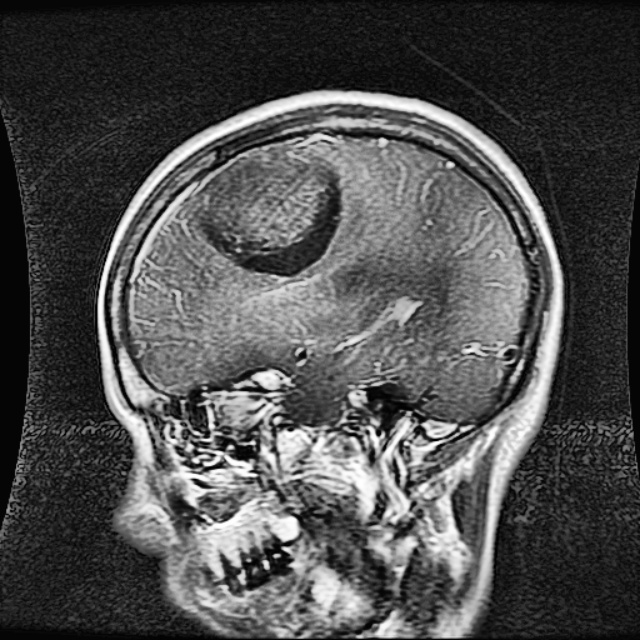Meningioma: (185, 144, 343, 277)
